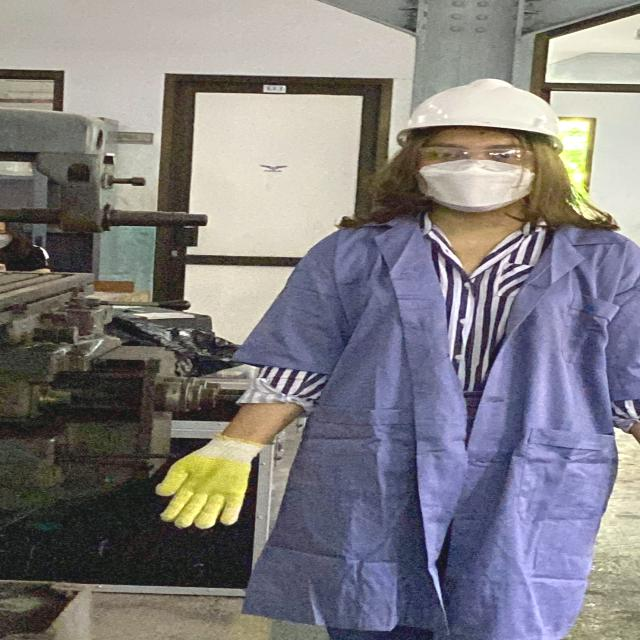face_mask: (411, 140, 542, 212)
glasses: (412, 142, 543, 171)
hand_glove: (146, 438, 268, 536)
head_helmet: (390, 76, 572, 144)
person: (152, 80, 640, 640)
